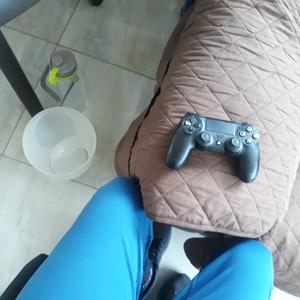controller: (166, 113, 259, 182)
